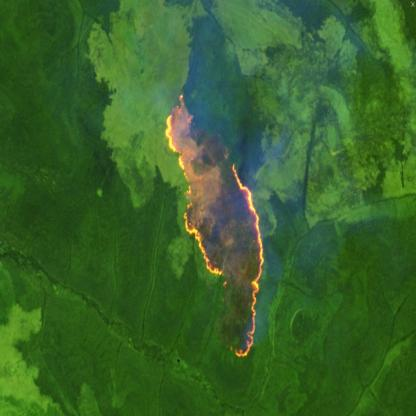fire: (162, 92, 266, 362)
